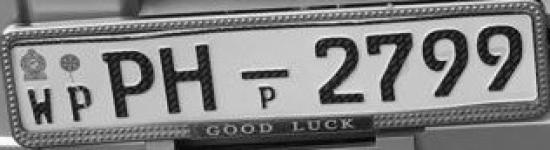-: (238, 66, 295, 82)
2: (308, 31, 368, 108)
7: (366, 26, 415, 106)
9: (418, 25, 470, 104), (472, 19, 526, 95)
H: (156, 38, 231, 116)
P: (98, 48, 154, 122), (62, 80, 97, 126)
W: (23, 84, 59, 128)
